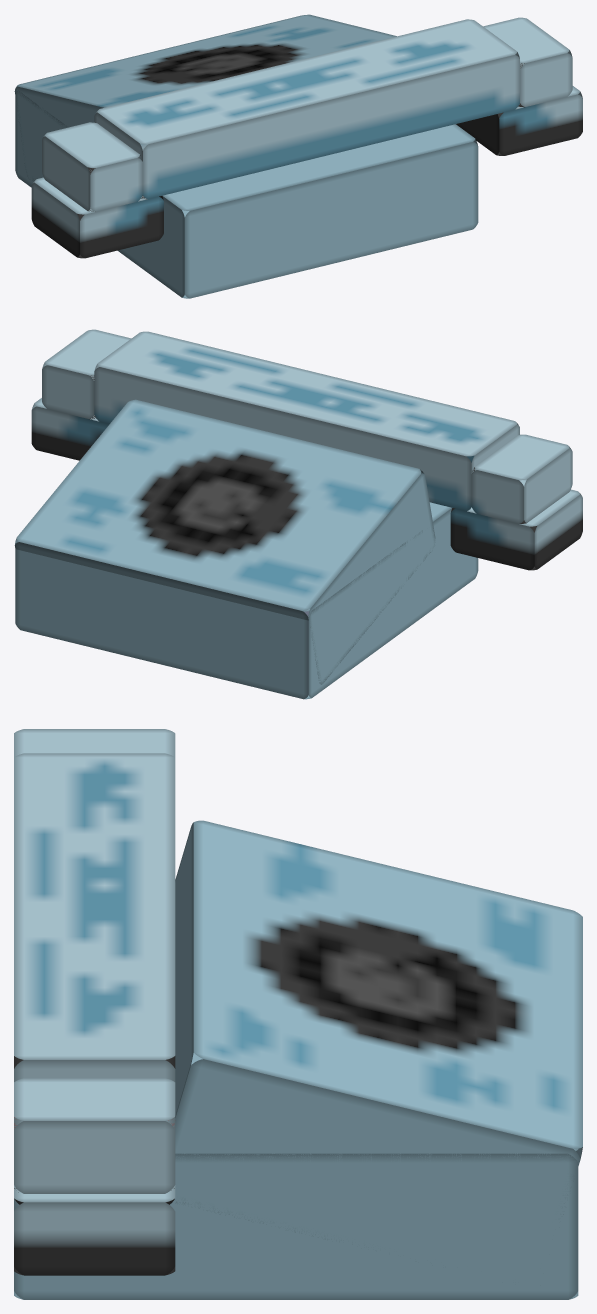
Rendered from vintage_phone.obj.
The picture shows the model from 3 angles, top to bottom: view 1: azimuth 30°, elevation 25°; view 2: azimuth 150°, elevation 25°; view 3: azimuth 270°, elevation 25°; orthographic projection. The views are drawn at different scales.
Parts seen in each view (by area): view 1: mesh; view 2: mesh; view 3: mesh.
Part boxes in pixels (<box>): mesh: <box>14,14,582,298</box>; mesh: <box>14,329,582,699</box>; mesh: <box>14,729,582,1299</box>.
Bounding box in the file's own units: 1.5 × 0.4688 × 0.8822.
1 material, 1 textured.
